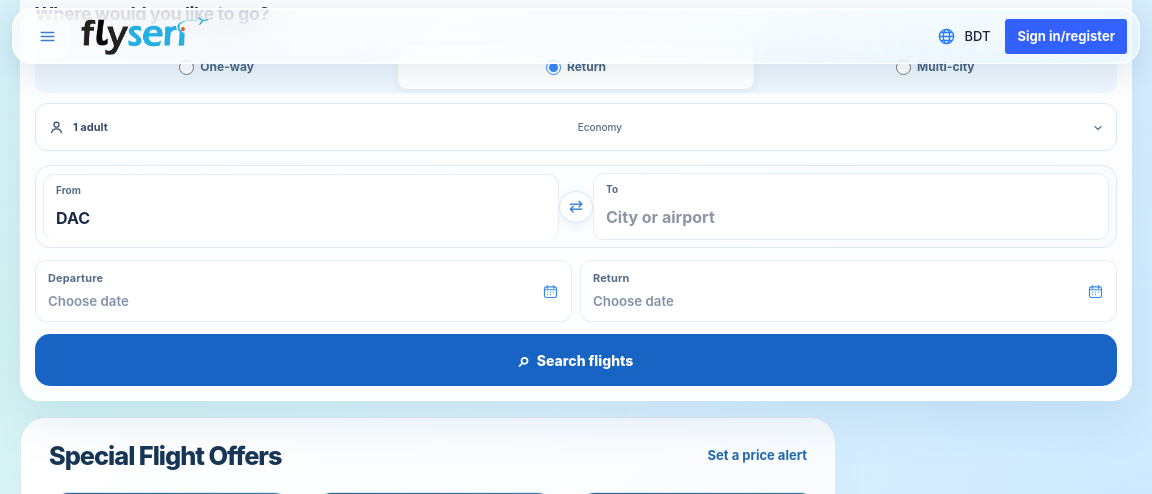
Test: premium homepage › identifies missing fields individually and clears errors as they are corrected
(page scrolled)
Click the button "⌕ Search flights": coordinates (576, 360) [35,334,1117,386]
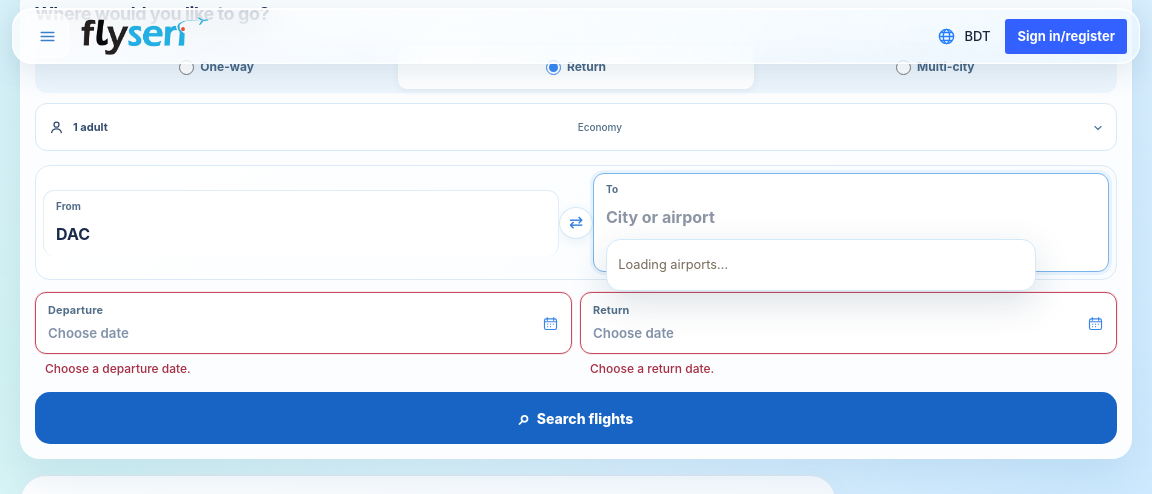
Expected: the text "Choose a destination airport." is shown, [616,244,782,259]
Expected: the text "Choose a departure date." is shown, [45,361,191,376]
Expected: the text "Choose a return date." is shown, [590,361,714,376]
In the dropdown named "To airport": coordinates (851, 217) [606,203,1096,231], type "BKK"
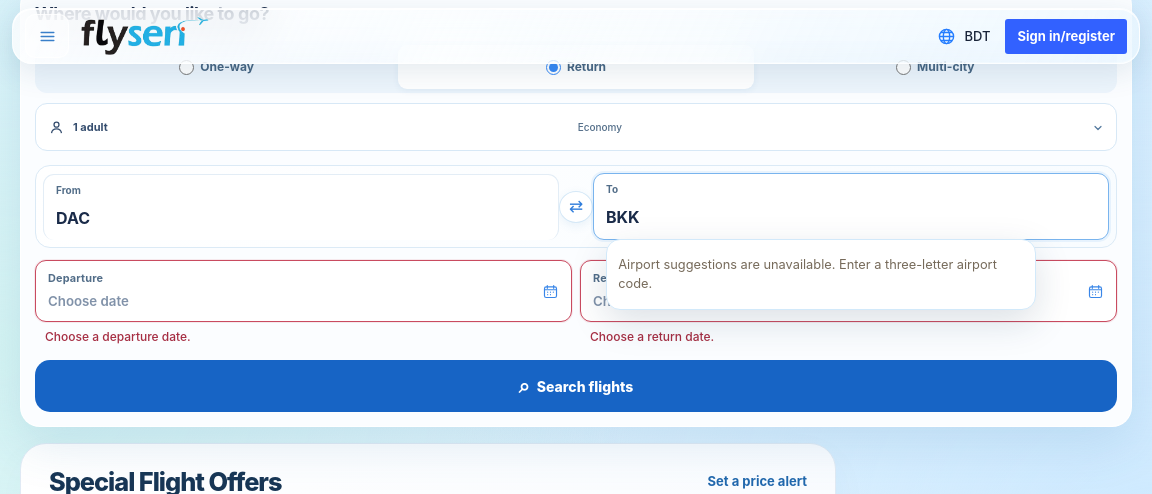
Expected: the text "Choose a destination airport." is gone
